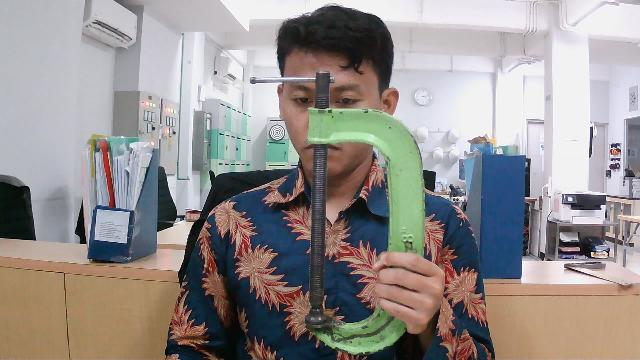tekiro_c_clamp: (243, 61, 449, 356)
